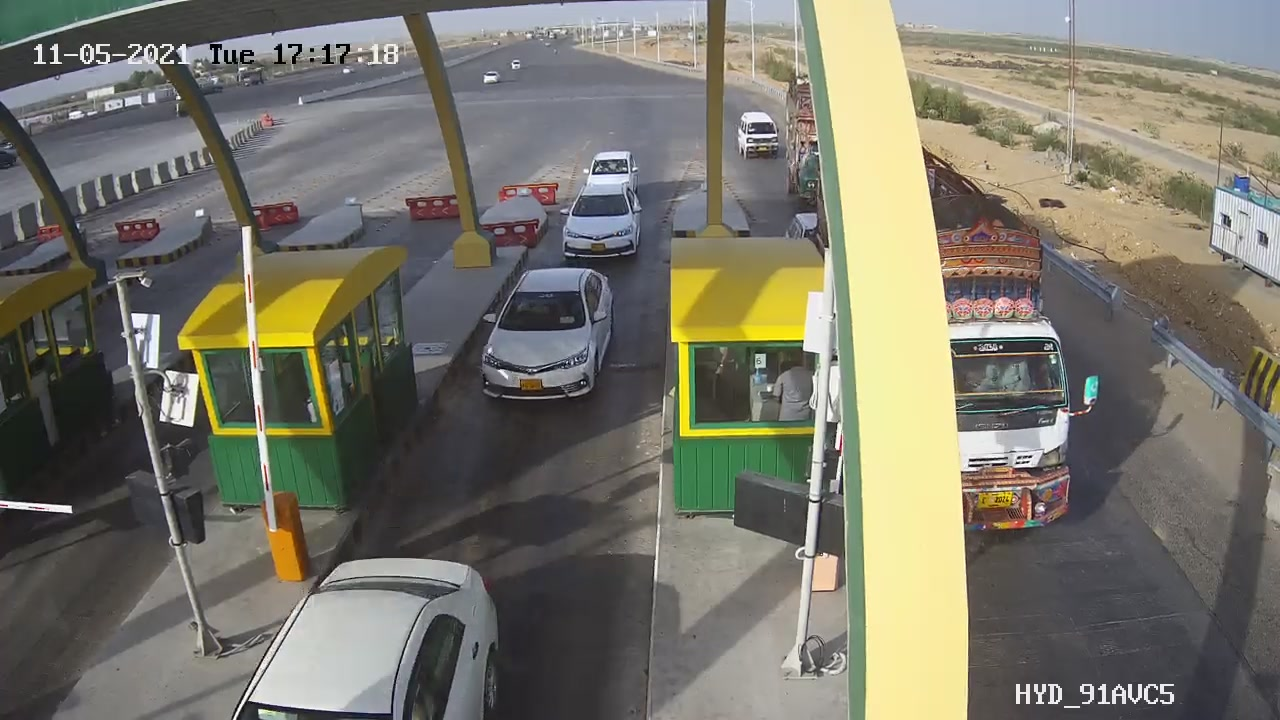F1: (464, 255, 627, 417), (540, 175, 655, 273)
